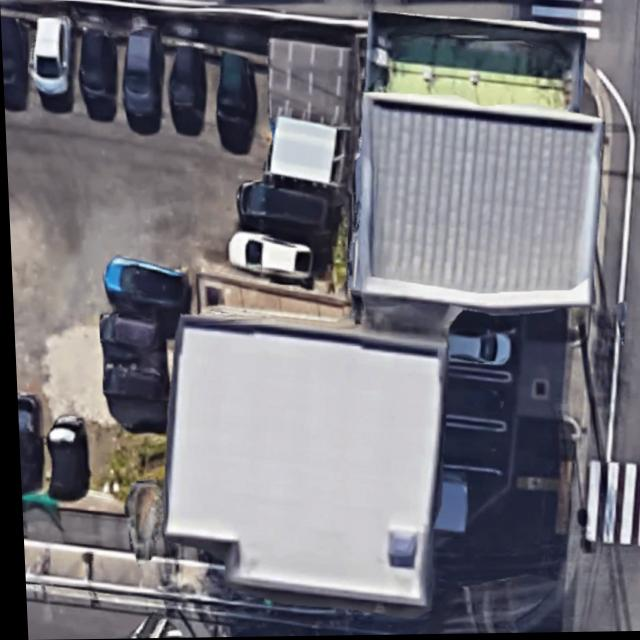Batiment: (161, 321, 437, 607), (359, 99, 600, 307)
